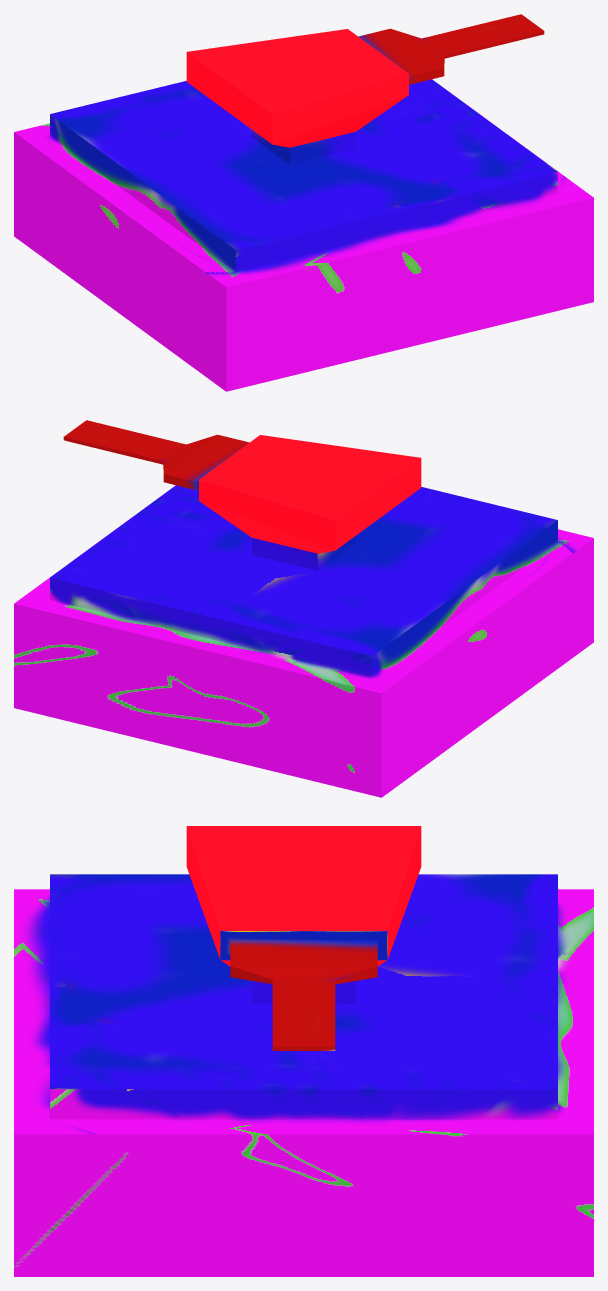
The model's file is tank.glb.
The picture shows the model from 3 angles, top to bottom: view 1: azimuth 30°, elevation 25°; view 2: azimuth 150°, elevation 25°; view 3: azimuth 270°, elevation 25°; orthographic projection. The views are drawn at different scales.
Visible parts, largest first — view 1: tank; view 2: tank; view 3: tank.
Part boxes in pixels (box(x1,y1,x2,y2)): tank: box(14, 14, 593, 391); tank: box(14, 420, 593, 797); tank: box(14, 826, 593, 1276).
Size of the model in its own units: 1.01 by 0.4775 by 0.9.
Materials: 2 (1 with a texture image).
